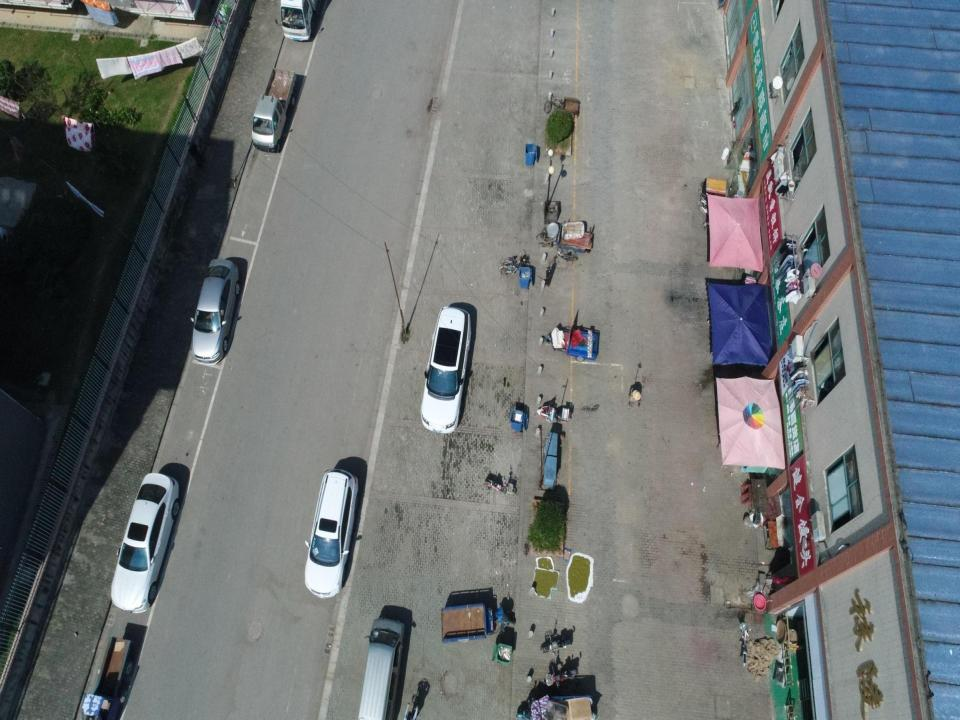car: (110, 473, 178, 612), (305, 468, 358, 596), (421, 307, 471, 436), (191, 260, 238, 364)
truck: (253, 69, 295, 152), (281, 0, 319, 40)
van: (358, 618, 406, 719)
